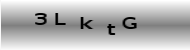3: (33, 12, 47, 25)
G: (121, 16, 137, 29)
L: (53, 12, 66, 26)
k: (79, 15, 94, 30)
t: (105, 23, 117, 36)
